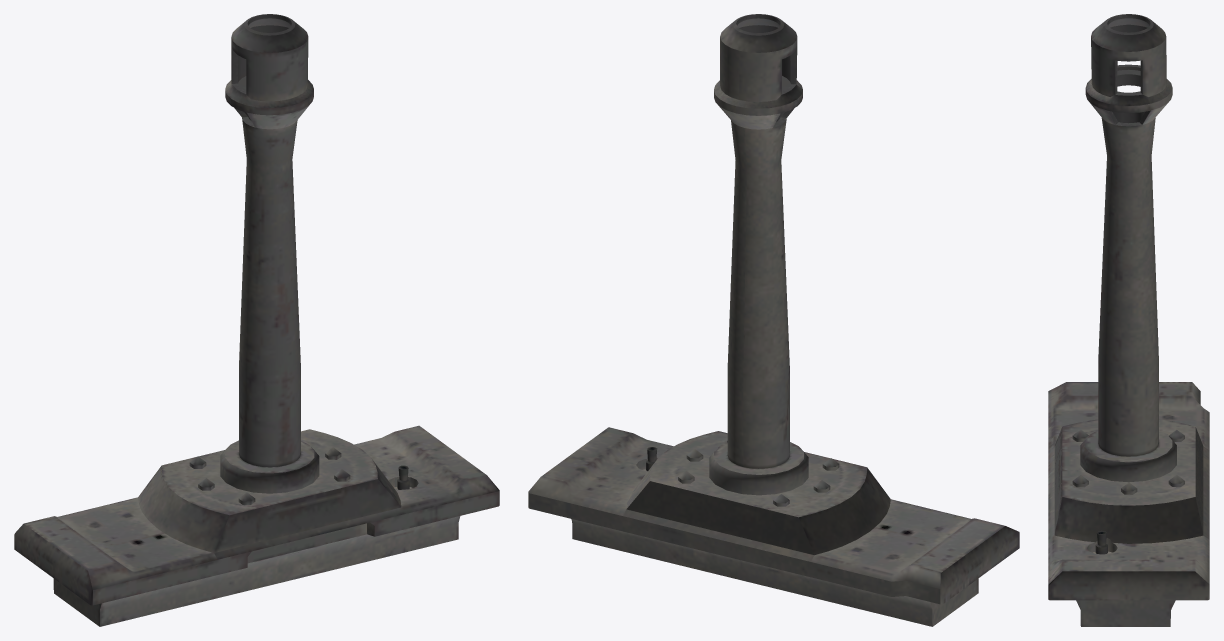
Rendered from Gun_06.glb.
3 renders of one model, left to right at view 1: azimuth 30°, elevation 25°; view 2: azimuth 150°, elevation 25°; view 3: azimuth 270°, elevation 25°, orthographic. The views are drawn at different scales.
Parts seen in each view (by area): view 1: set_0_group_0; view 2: set_0_group_0; view 3: set_0_group_0.
Boxes of the visible parts, <box> form: set_0_group_0: <box>14,14,499,626</box>; set_0_group_0: <box>528,14,1019,626</box>; set_0_group_0: <box>1048,14,1209,626</box>.
Bounding box in the file's own units: 1.6 × 2.01 × 0.5606.
Materials: 1 (1 with a texture image).
